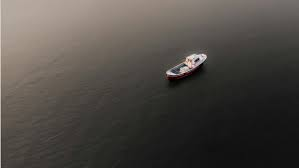boat: (165, 51, 208, 80)
